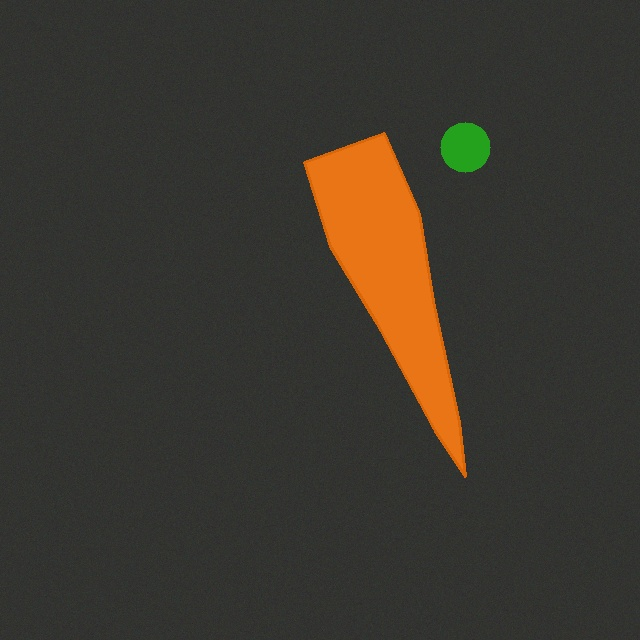Good_Carrot: (296, 125, 473, 484)
